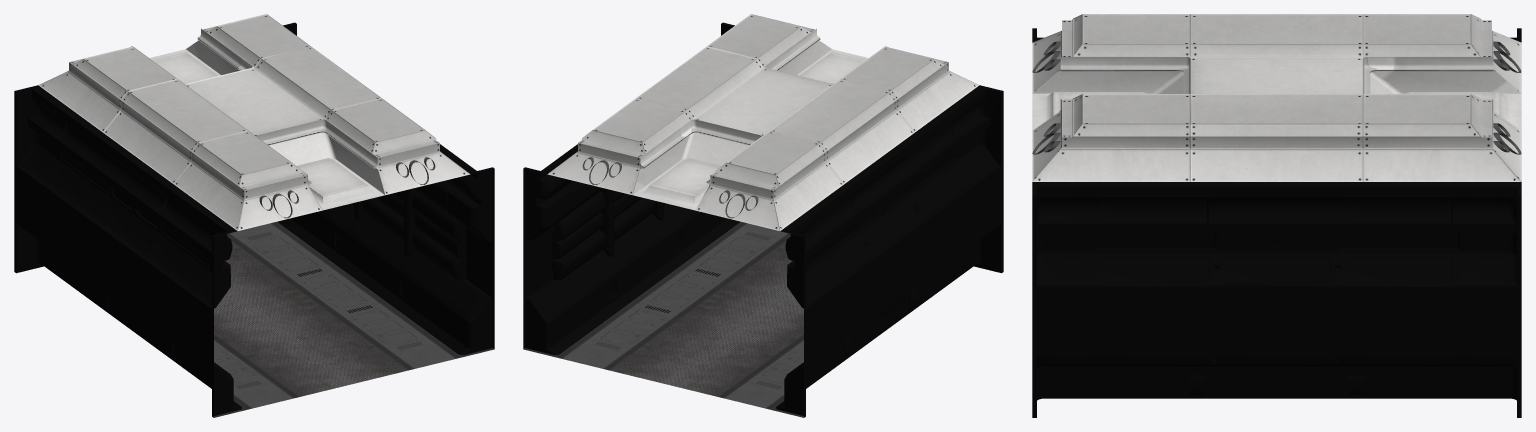
File: HallwayStraight.fbx
3 views of the same model, side by side, from view 1: azimuth 30°, elevation 25°; view 2: azimuth 150°, elevation 25°; view 3: azimuth 270°, elevation 25° (orthographic). The views are drawn at different scales.
Parts seen in each view (by area): view 1: HallwayStraight001; view 2: HallwayStraight001; view 3: HallwayStraight001.
Part boxes in pixels (box(x1,y1,x2,y2)): HallwayStraight001: box(14, 14, 494, 417); HallwayStraight001: box(523, 14, 1003, 417); HallwayStraight001: box(1032, 14, 1521, 417).
Bounding box in the file's own units: 650 × 478 × 800.
